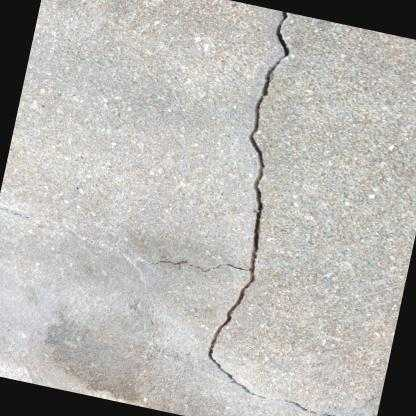crack: (146, 11, 289, 398)
